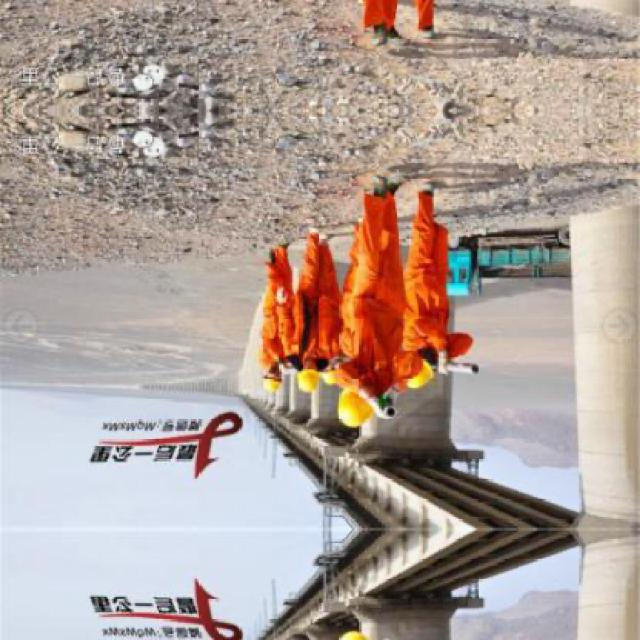con casco: (326, 380, 395, 451), (393, 339, 458, 389)
